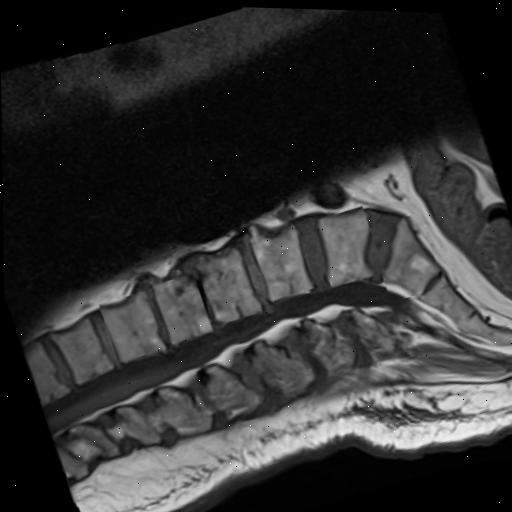L1: (99, 288, 164, 361)
L2: (152, 276, 210, 341)
L3: (197, 244, 260, 321)
L4: (249, 222, 313, 297)
L5: (319, 206, 370, 284)
S1: (382, 215, 439, 291)
